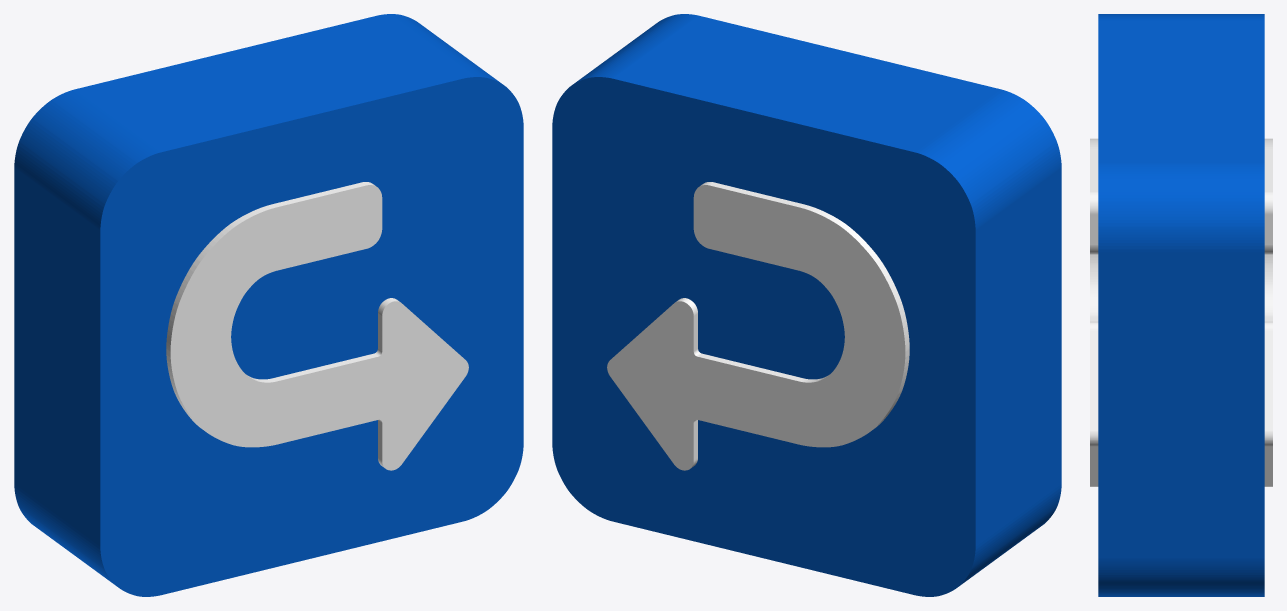
3 renders of one model, left to right at view 1: azimuth 30°, elevation 25°; view 2: azimuth 150°, elevation 25°; view 3: azimuth 270°, elevation 25°, orthographic. The views are drawn at different scales.
Visible parts, largest first — view 1: U+21AA_layer00_obj00, U+21AA_layer01_obj00; view 2: U+21AA_layer00_obj00, U+21AA_layer01_obj00; view 3: U+21AA_layer00_obj00, U+21AA_layer01_obj00.
Part boxes in pixels (x1=…): U+21AA_layer00_obj00: x1=14, y1=14, x2=523, y2=596; U+21AA_layer01_obj00: x1=166, y1=182, x2=468, y2=470; U+21AA_layer00_obj00: x1=552, y1=14, x2=1061, y2=596; U+21AA_layer01_obj00: x1=607, y1=182, x2=909, y2=470; U+21AA_layer00_obj00: x1=1098, y1=14, x2=1264, y2=596; U+21AA_layer01_obj00: x1=1090, y1=138, x2=1272, y2=486.
Size of the model in its own units: 0.5678 by 0.5677 by 0.22.
